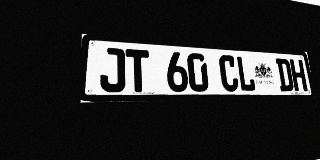0: (187, 53, 209, 92)
6: (166, 51, 189, 92)
C: (218, 55, 239, 92)
D: (275, 58, 294, 91)
H: (289, 59, 308, 91)
J: (100, 47, 126, 92)
L: (236, 56, 256, 92)
T: (125, 49, 150, 92)
